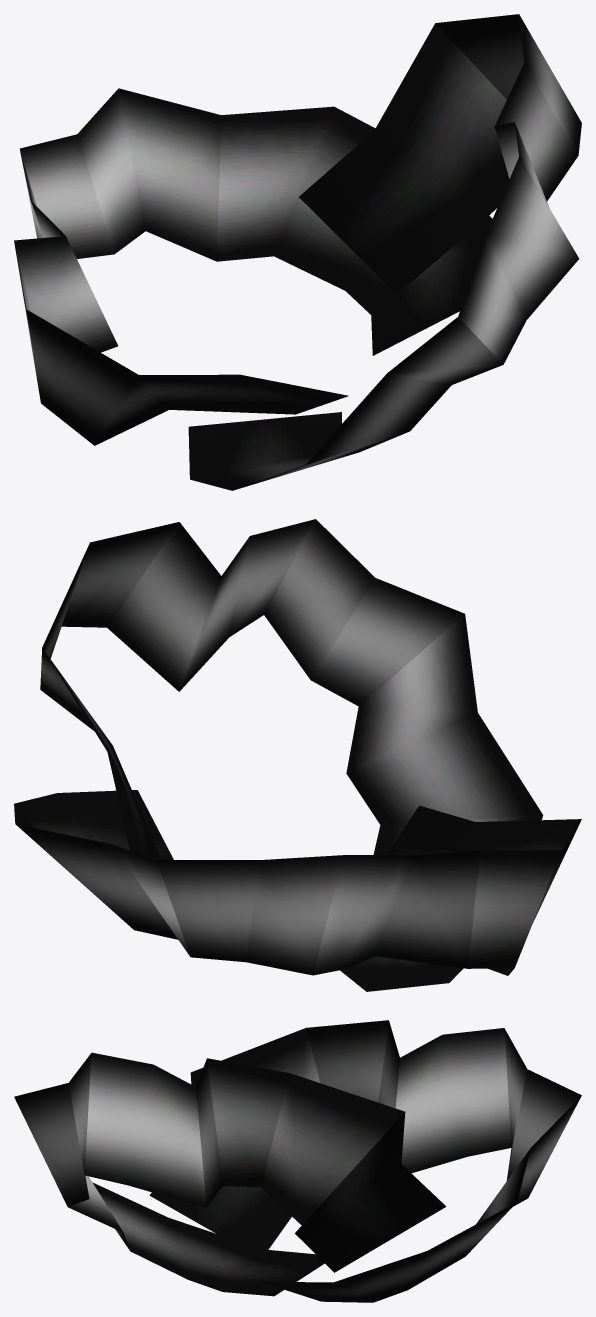
Rendered from vfx_kurp_0788.dae.
3 renders of one model, top to bottom at view 1: azimuth 30°, elevation 25°; view 2: azimuth 150°, elevation 25°; view 3: azimuth 270°, elevation 25°, orthographic. The views are drawn at different scales.
Parts seen in each view (by area): view 1: vfx_kurp_0788; view 2: vfx_kurp_0788; view 3: vfx_kurp_0788.
Boxes of the visible parts, bbox=[...] form: vfx_kurp_0788: bbox=[14, 14, 581, 490]; vfx_kurp_0788: bbox=[14, 519, 581, 991]; vfx_kurp_0788: bbox=[14, 1020, 581, 1302].
Bounding box in the file's own units: 10.8 × 11.47 × 7.2.
Materials: 1 (1 with a texture image).
